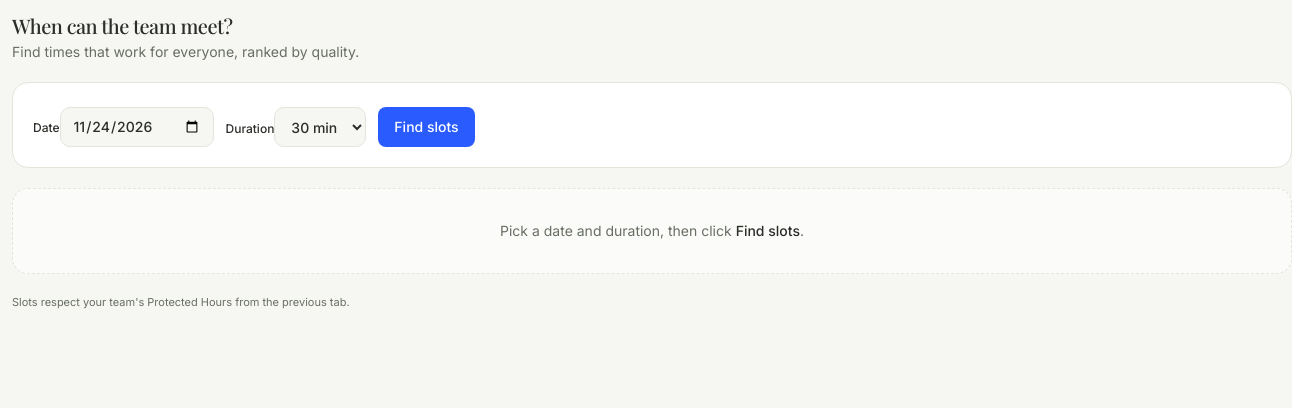
Test: AC-6: Find a time › a network failure shows 'can't reach' with a retry, not slots
The image size is (1292, 408).
Click the button "Find slots". click: (427, 127)
box: [378,107,475,147]
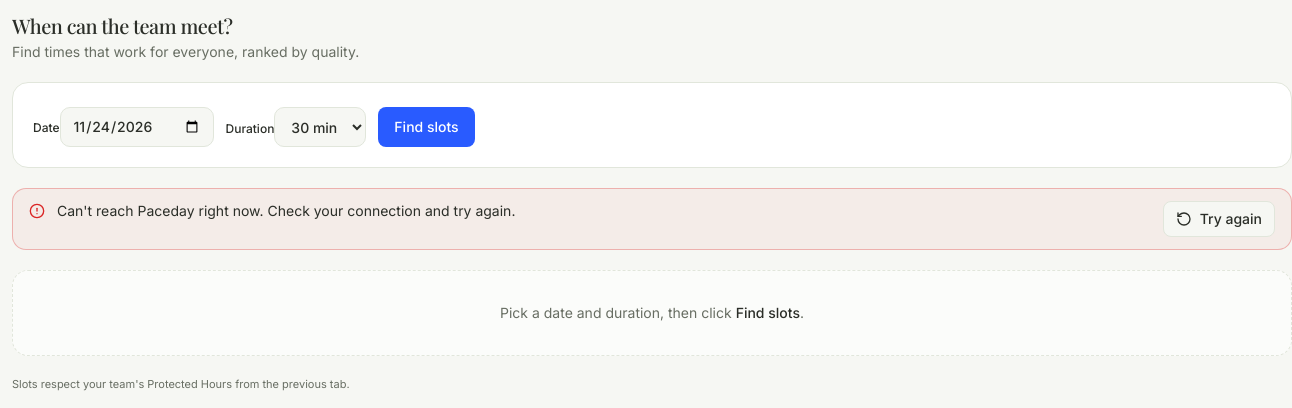
Now the button with test id "api-error-retry" is shown, box [1163,201,1275,237]
